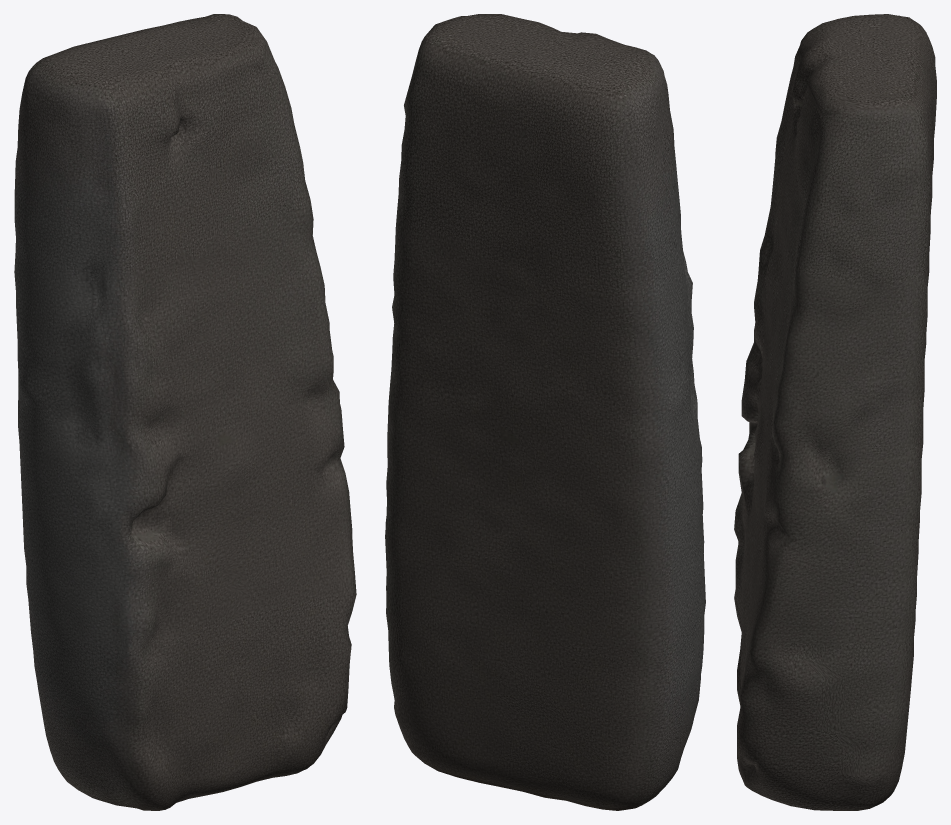
Rendered from menhir.glb.
3 renders of one model, left to right at view 1: azimuth 30°, elevation 25°; view 2: azimuth 150°, elevation 25°; view 3: azimuth 270°, elevation 25°, orthographic. The views are drawn at different scales.
Visible parts, largest first — view 1: tripo_node_a7a0c20c-3c5f-448e-85b2-0dde7b33a62e; view 2: tripo_node_a7a0c20c-3c5f-448e-85b2-0dde7b33a62e; view 3: tripo_node_a7a0c20c-3c5f-448e-85b2-0dde7b33a62e.
Boxes of the visible parts, x1,y1,x2,y2 form: tripo_node_a7a0c20c-3c5f-448e-85b2-0dde7b33a62e: (14,14,356,810); tripo_node_a7a0c20c-3c5f-448e-85b2-0dde7b33a62e: (385,14,705,810); tripo_node_a7a0c20c-3c5f-448e-85b2-0dde7b33a62e: (734,14,936,810).
Bounding box in the file's own units: 0.416 × 0.998 × 0.2598.
1 material, 1 textured.
